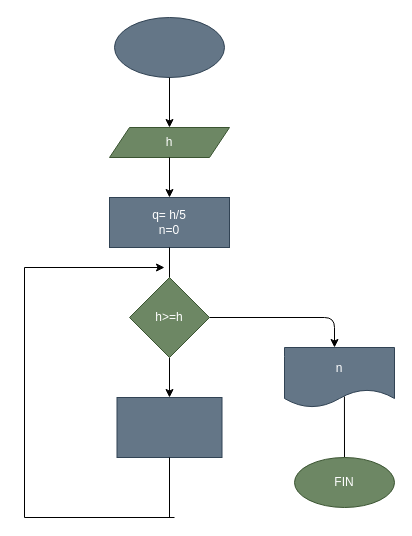
The diagram is 412 pixels wide and 536 high, and some of its shapes have lost their labels. The box of each missing label's shape, as (x1, y1, x2, y2) in pixels:
h= 0.9*h n= n+1: (116, 396, 222, 458)
INICIO: (114, 16, 224, 78)
